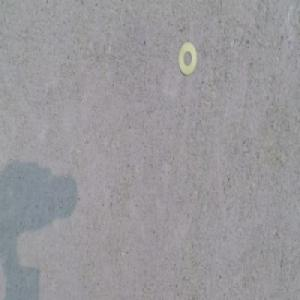Washer: (178, 42, 197, 73)
